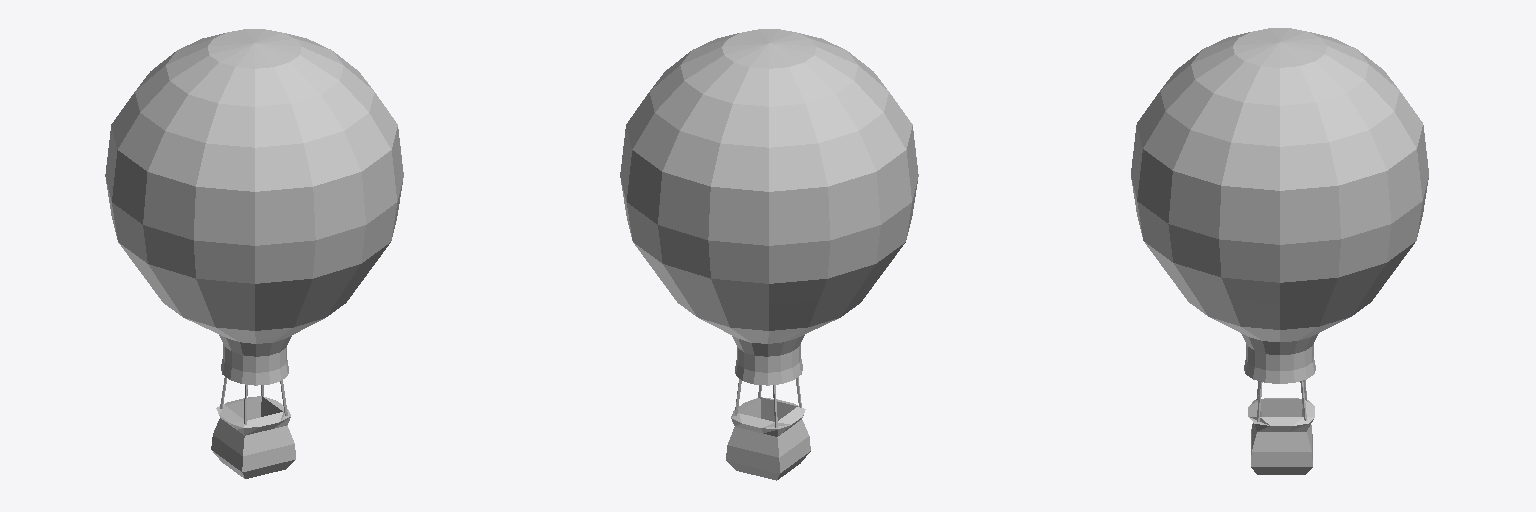
Rendered from hotairballoon.obj.
3 views of the same model, side by side, from view 1: azimuth 30°, elevation 25°; view 2: azimuth 150°, elevation 25°; view 3: azimuth 270°, elevation 25° (orthographic).
Parts seen in each view (by area): view 1: pSphere1, pCube1; view 2: pSphere1, pCube1; view 3: pSphere1, pCube1.
Part boxes in pixels (x1,y1,x2,y2): pSphere1: (105,29,403,385); pCube1: (211,396,295,478); pSphere1: (620,29,918,385); pCube1: (726,397,810,480); pSphere1: (1131,28,1428,383); pCube1: (1248,398,1314,474).
Size of the model in its own units: 8.53 by 13.5 by 8.58.